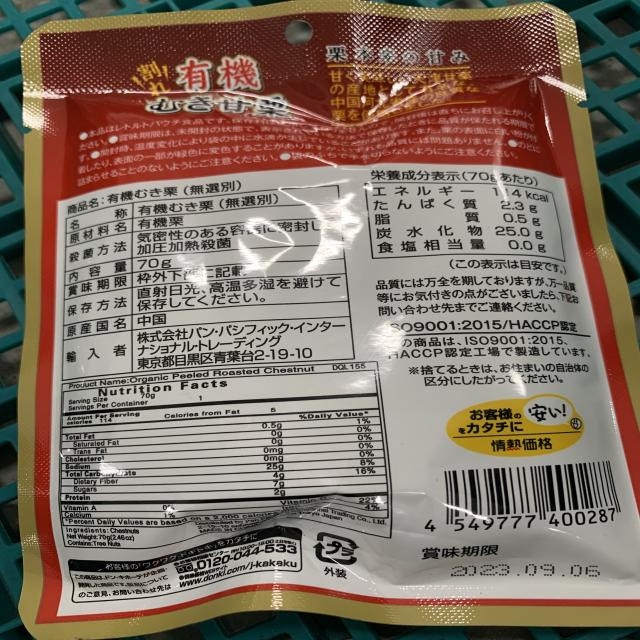object_name: (24, 18, 640, 621)
